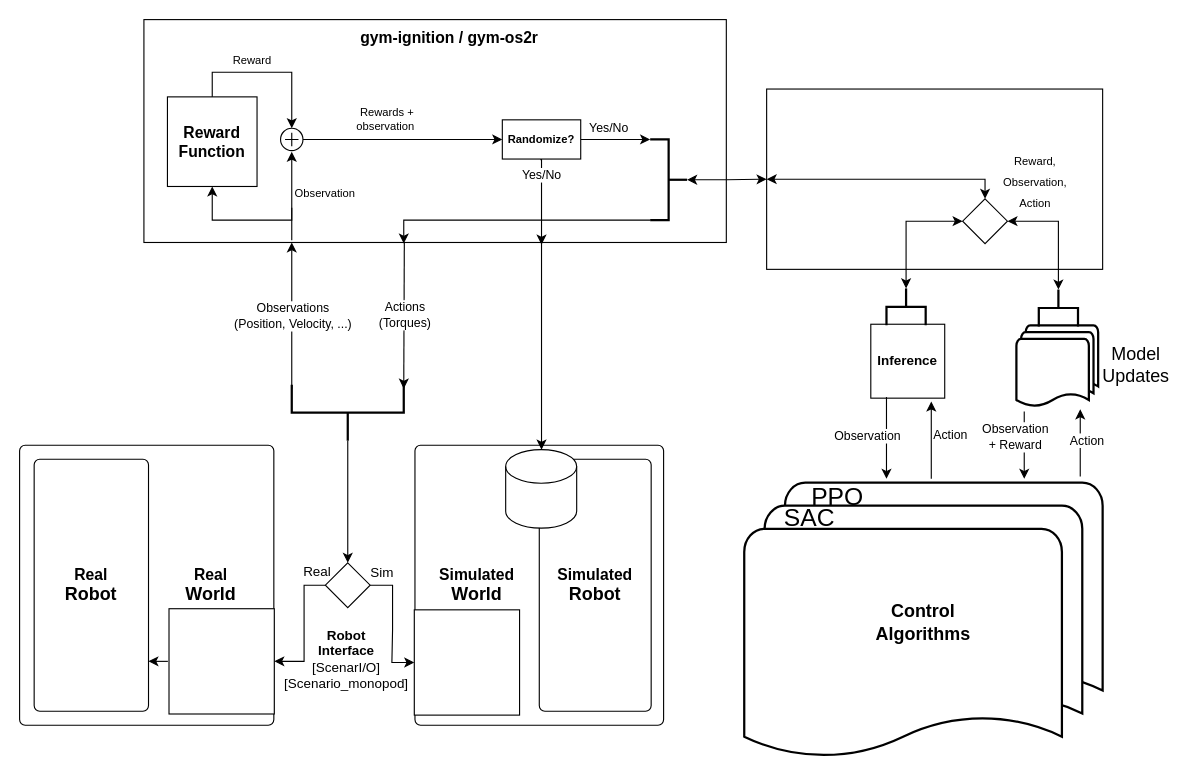
Some shapes in this 1189 by 782 pixel diagram are drawn without their labels. Each missing label, with the centre of its shape:
"Low Level Controller (IDynTree)" belongs at point (466, 662).
"Low Level Controller (monopod_sdk)" belongs at point (221, 661).
"Physical Properties" belongs at point (541, 488).
"Training" belongs at point (1057, 366).
